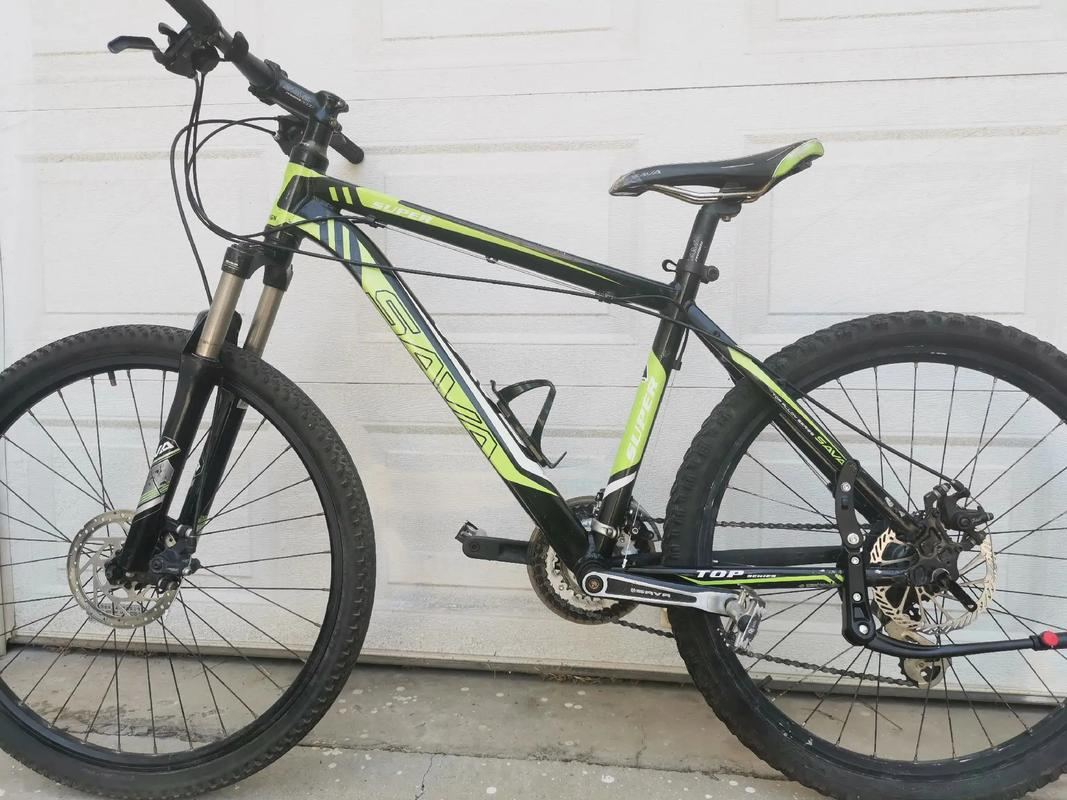单车: (1, 1, 1067, 800)
